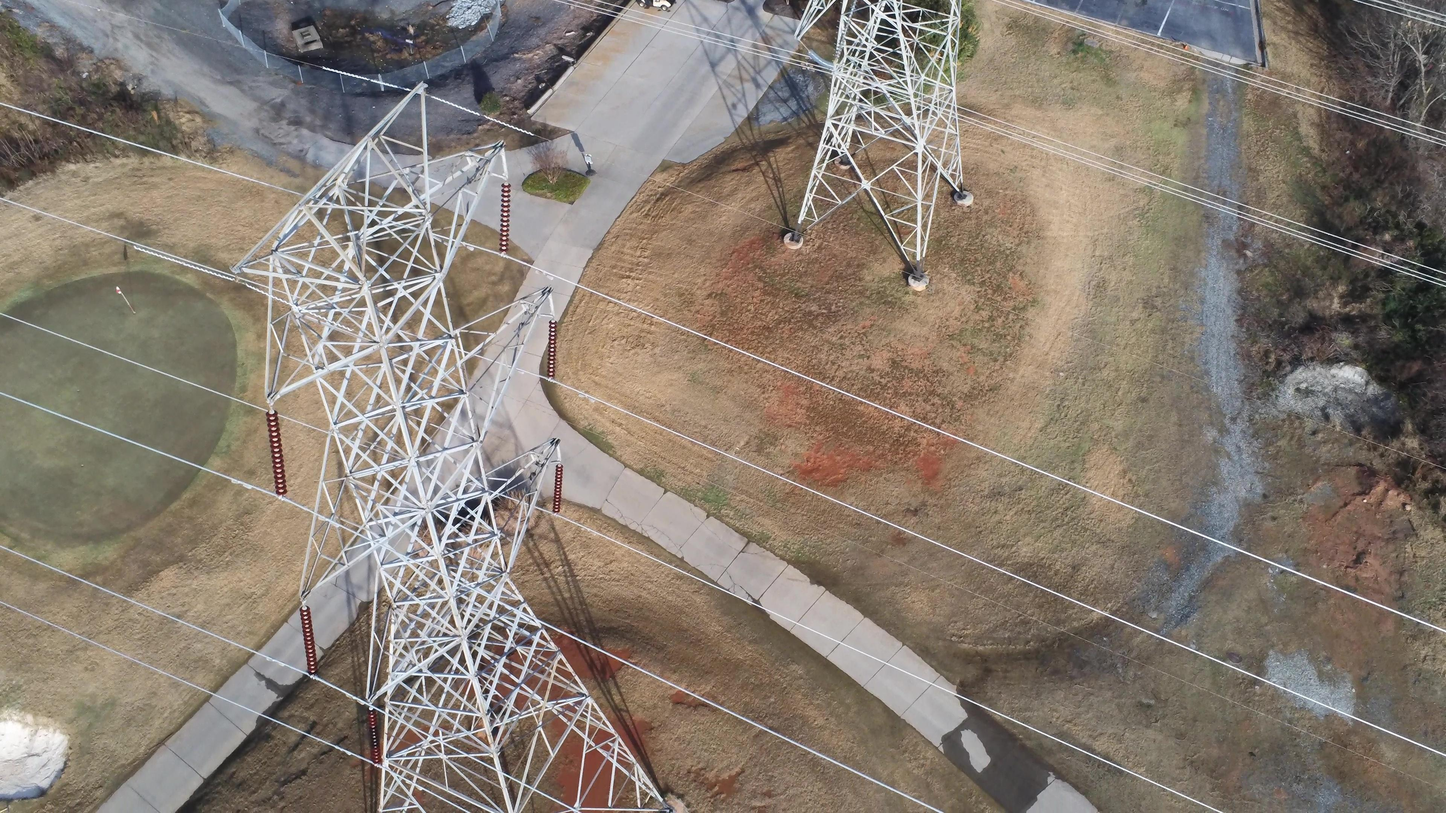power_tower: (228, 80, 666, 813), (790, 0, 966, 280)
